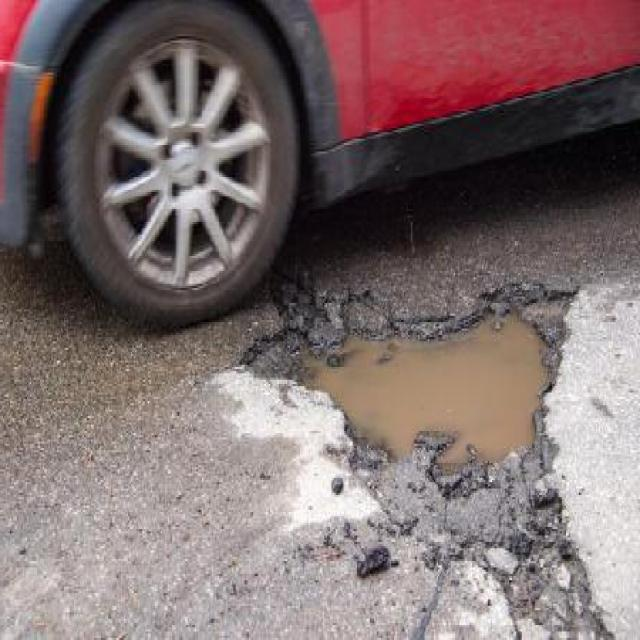Pothole: (240, 277, 584, 477)
